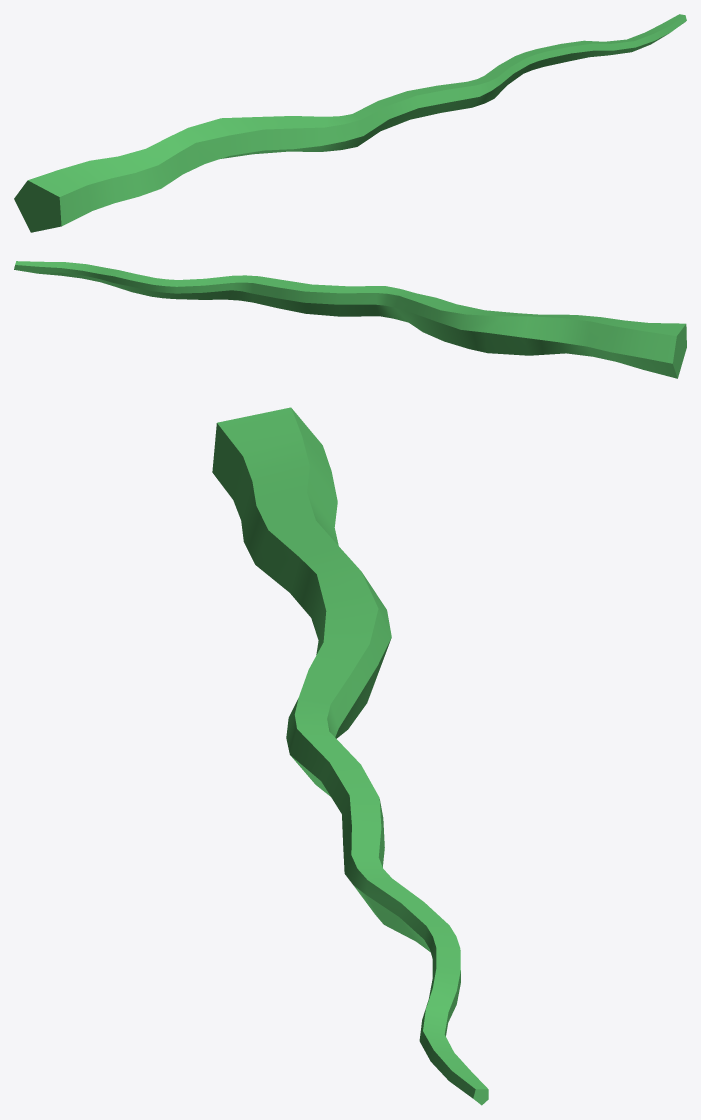
Rendered from roots_solo_A_E.fbx.
The picture shows the model from 3 angles, top to bottom: view 1: azimuth 30°, elevation 25°; view 2: azimuth 150°, elevation 25°; view 3: azimuth 270°, elevation 25°; orthographic projection. The views are drawn at different scales.
Parts seen in each view (by area): view 1: roots_solo_A_E; view 2: roots_solo_A_E; view 3: roots_solo_A_E.
Boxes of the visible parts, x1,y1,x2,y2 form: roots_solo_A_E: (14,14,686,232); roots_solo_A_E: (14,261,686,378); roots_solo_A_E: (212,407,488,1105).
Bounding box in the file's own units: 333 × 26.75 × 64.28.
